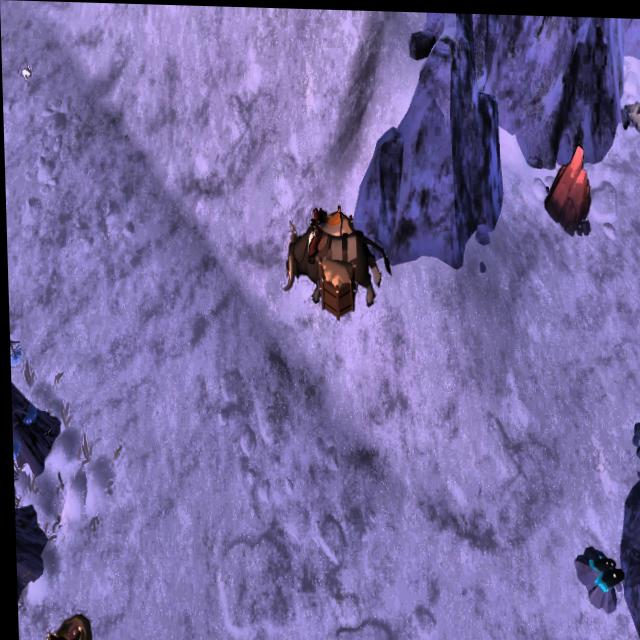ore_t4: (585, 545, 624, 598)
rock_t5: (541, 137, 593, 230)
